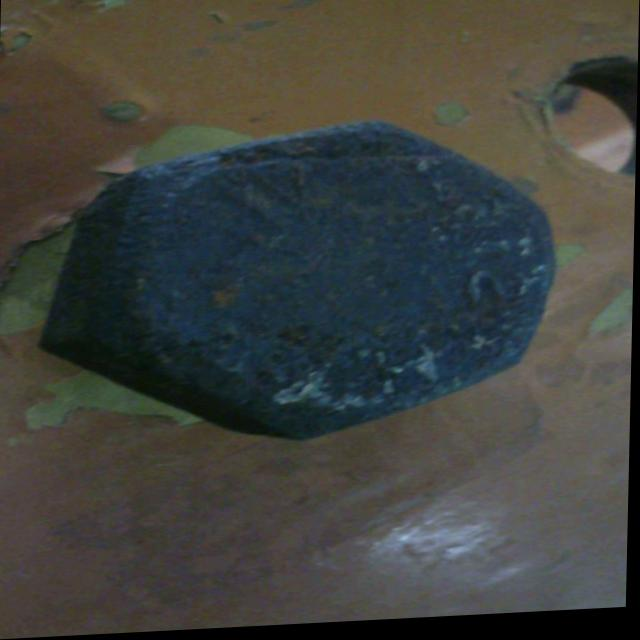Missing bolt: (545, 62, 639, 195)
Rusty bolt: (37, 114, 568, 454)
